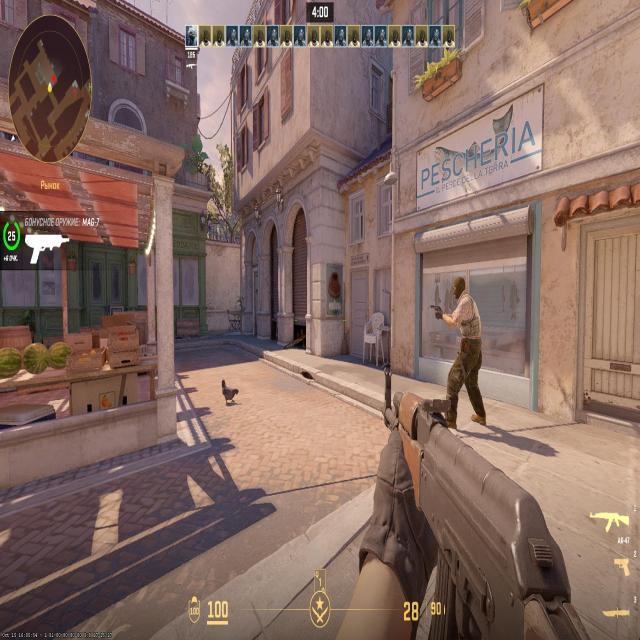T: (452, 281, 480, 384)
T_heat: (457, 282, 468, 307)
